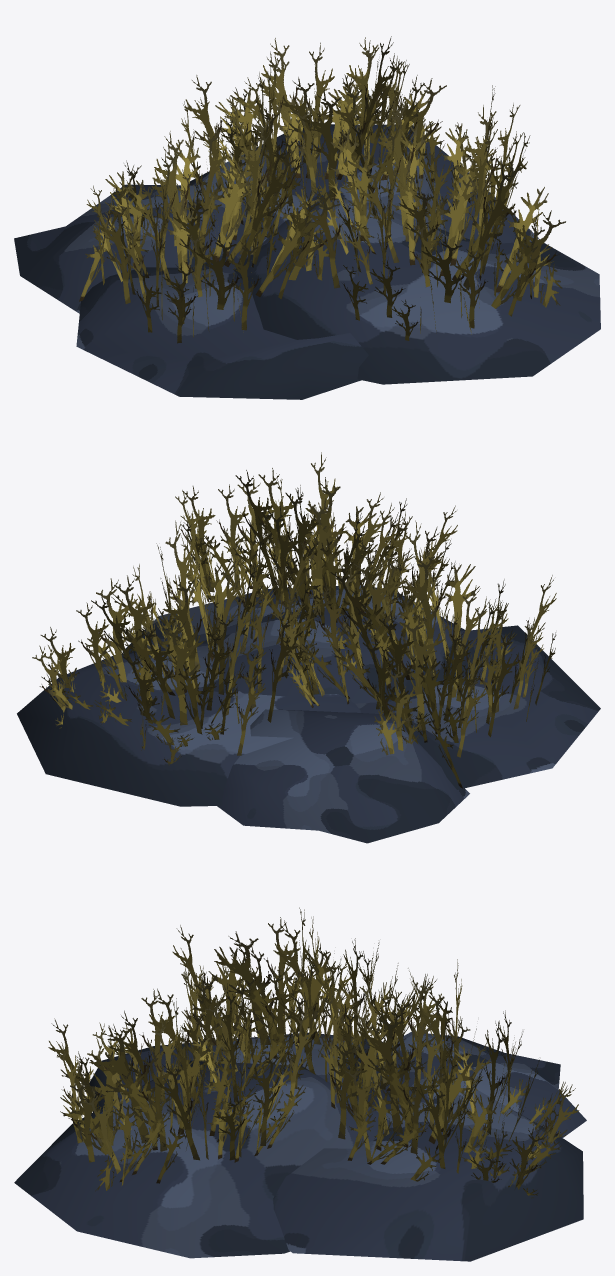
The model's file is Rice Coral 4_preview_3DS_simplified.glb.
3 renders of one model, top to bottom at view 1: azimuth 30°, elevation 25°; view 2: azimuth 150°, elevation 25°; view 3: azimuth 270°, elevation 25°, orthographic. The views are drawn at different scales.
Visible parts, largest first — view 1: Marine Park Empire model; view 2: Marine Park Empire model; view 3: Marine Park Empire model.
Part boxes in pixels (bbox=[...]): Marine Park Empire model: bbox=[14, 36, 600, 399]; Marine Park Empire model: bbox=[17, 452, 600, 843]; Marine Park Empire model: bbox=[14, 907, 586, 1261].
Size of the model in its own units: 127 by 62.13 by 137.
2 materials, 2 textured.
